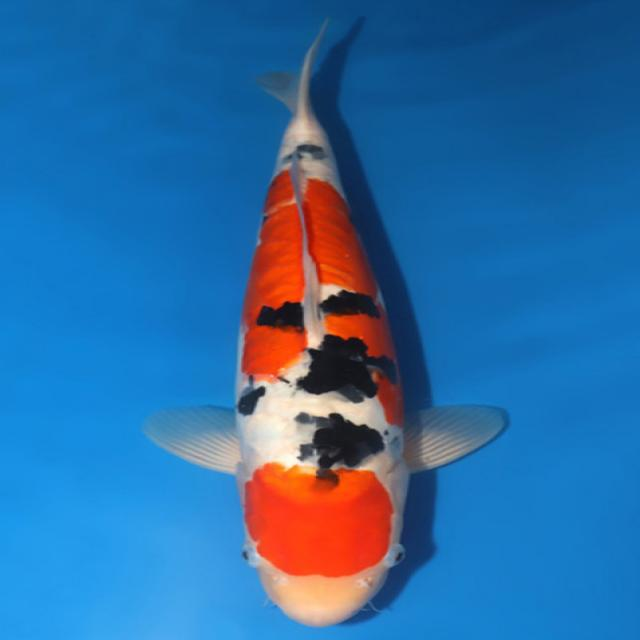Sanke: (141, 15, 510, 627)
